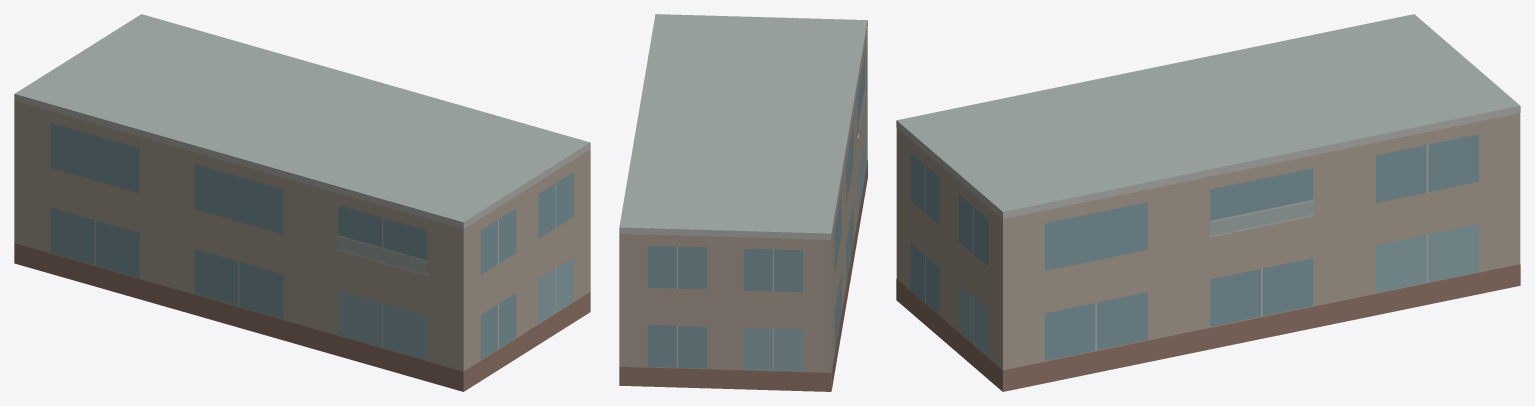
The model's file is survey-upis-32809340.glb.
3 views of the same model, side by side, from view 1: azimuth 30°, elevation 25°; view 2: azimuth 150°, elevation 25°; view 3: azimuth 270°, elevation 25° (orthographic). The views are drawn at different scales.
Parts seen in each view (by area): view 1: survey-upis-32809340.tmp; view 2: survey-upis-32809340.tmp; view 3: survey-upis-32809340.tmp.
Boxes of the visible parts, x1,y1,x2,y2 form: survey-upis-32809340.tmp: (14, 14, 590, 391); survey-upis-32809340.tmp: (619, 14, 867, 391); survey-upis-32809340.tmp: (896, 14, 1520, 391).
Size of the model in its own units: 14.41 by 6.1 by 19.19.
